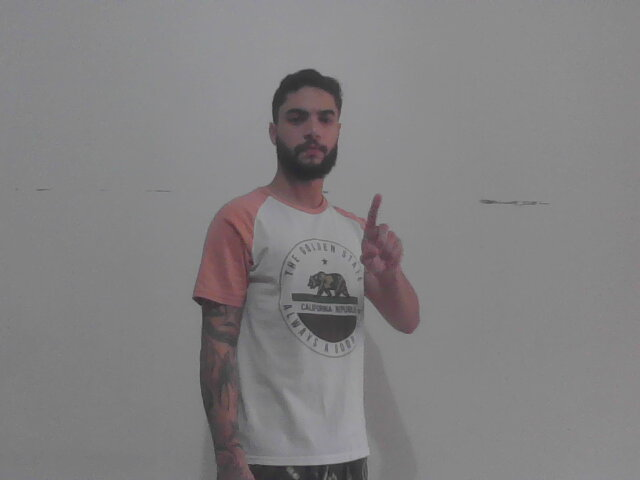z: (360, 189, 409, 283)
